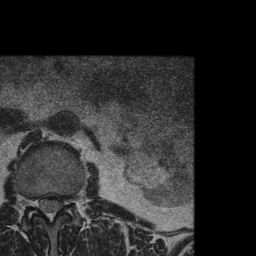CCS_normal: (46, 189, 54, 229)
LFS_stenosis: (63, 189, 74, 213)
LLS_stenosis: (55, 190, 63, 219)
RFS_normal: (27, 187, 37, 216)
RLS_normal: (37, 189, 46, 223)
